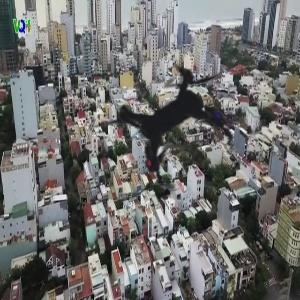drone: (63, 4, 293, 234)
